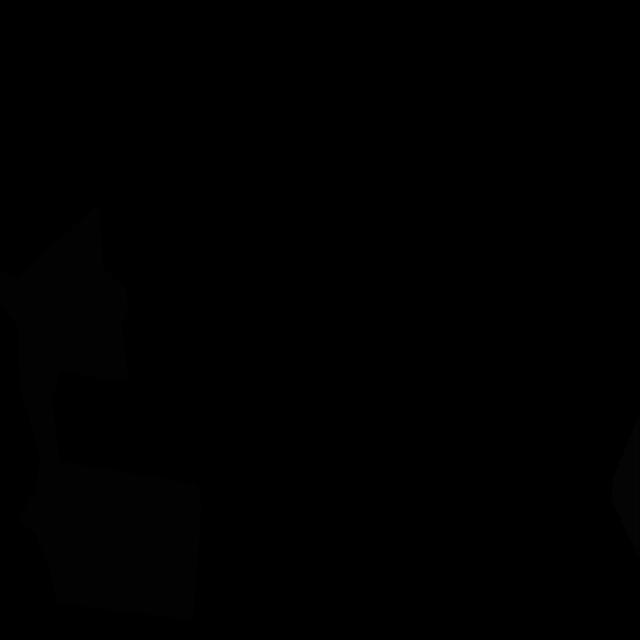cardboard: (0, 203, 129, 461), (18, 459, 202, 620)
soft_plastic: (612, 413, 640, 559)
